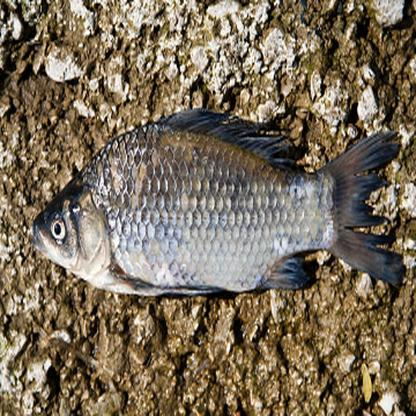deceased fish: (28, 112, 407, 296)
